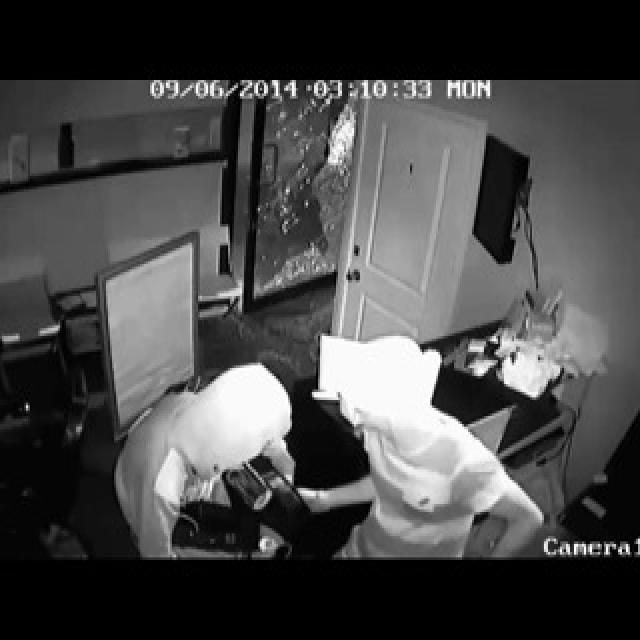thief: (110, 336, 544, 560)
